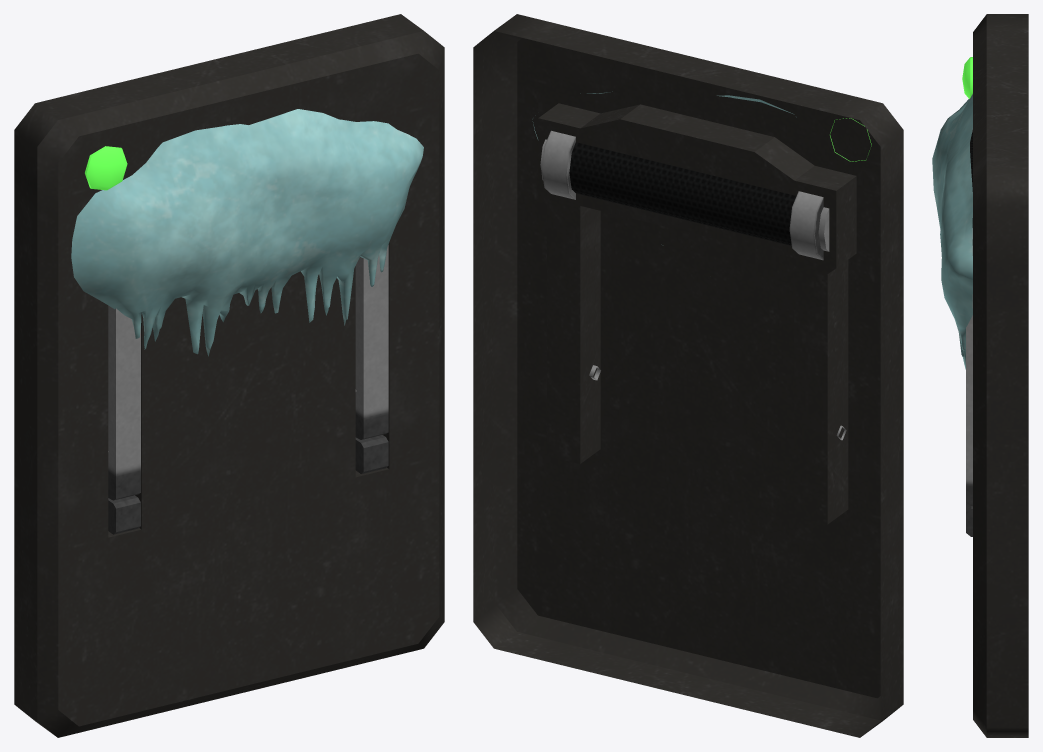
The model's file is Lever.fbx.
3 views of the same model, side by side, from view 1: azimuth 30°, elevation 25°; view 2: azimuth 150°, elevation 25°; view 3: azimuth 270°, elevation 25° (orthographic). The views are drawn at different scales.
Visible parts, largest first — view 1: SM_Lever1, Ice, Lever; view 2: SM_Lever1, Lever; view 3: SM_Lever1, Ice, Lever.
Part boxes in pixels (x1,y1,x2,y2): SM_Lever1: (14,14,444,737); Ice: (71,109,423,356); Lever: (108,245,388,500); SM_Lever1: (473,14,903,737); Lever: (540,130,829,260); SM_Lever1: (962,14,1028,737); Ice: (932,94,972,369); Lever: (966,129,972,506).
Bounding box in the file's own units: 51.77 × 75 × 11.69.
1 material, 1 textured.
